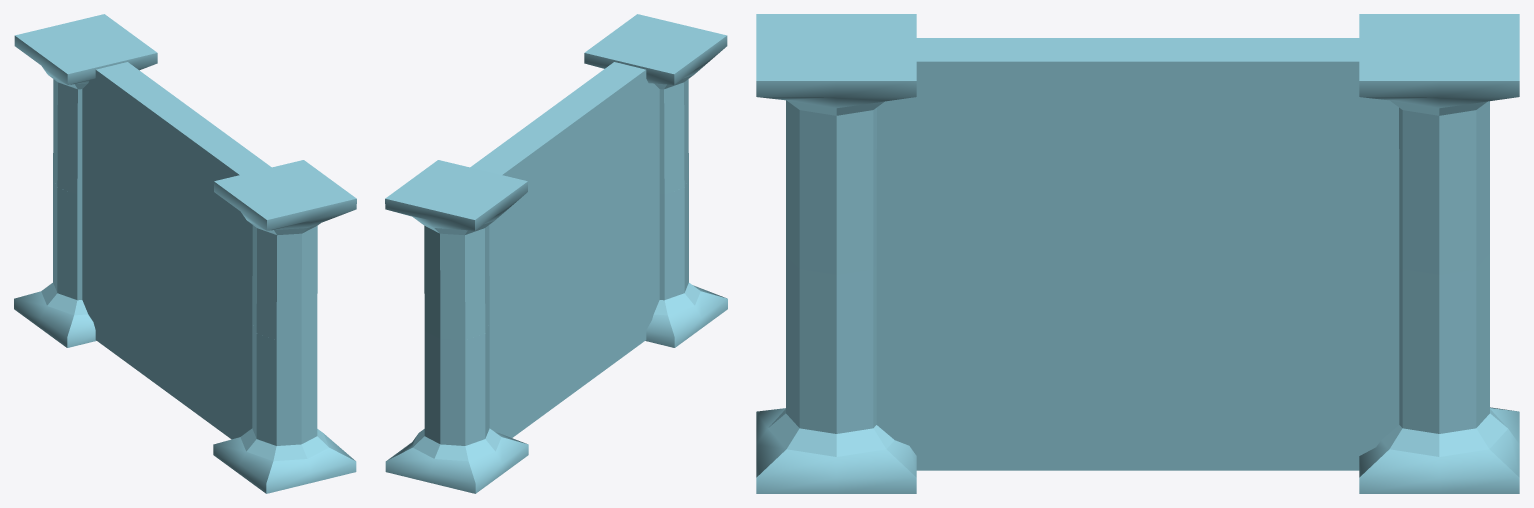
Rendered from wall.fbx.
3 views of the same model, side by side, from view 1: azimuth 30°, elevation 25°; view 2: azimuth 150°, elevation 25°; view 3: azimuth 270°, elevation 25° (orthographic). The views are drawn at different scales.
Visible parts, largest first — view 1: Box006, Box003, Box004, Box002, Box001; view 2: Box006, Box002, Box001, Box003, Box004; view 3: Box006, Box003, Box002, Box004, Box001.
Boxes of the visible parts, bbox=[...] form: Box006: bbox=[82, 62, 271, 439]; Box003: bbox=[214, 160, 356, 340]; Box004: bbox=[213, 323, 356, 493]; Box002: bbox=[14, 14, 157, 194]; Box001: bbox=[14, 177, 96, 347]; Box006: bbox=[470, 62, 659, 437]; Box002: bbox=[385, 160, 527, 340]; Box001: bbox=[385, 323, 528, 493]; Box003: bbox=[584, 14, 727, 194]; Box004: bbox=[645, 177, 727, 347]; Box006: bbox=[876, 38, 1399, 470]; Box003: bbox=[756, 14, 916, 274]; Box002: bbox=[1359, 14, 1519, 274]; Box004: bbox=[756, 254, 916, 493]; Box001: bbox=[1359, 254, 1519, 493].
Bounding box in the file's own units: 94.16 × 272 × 455.
